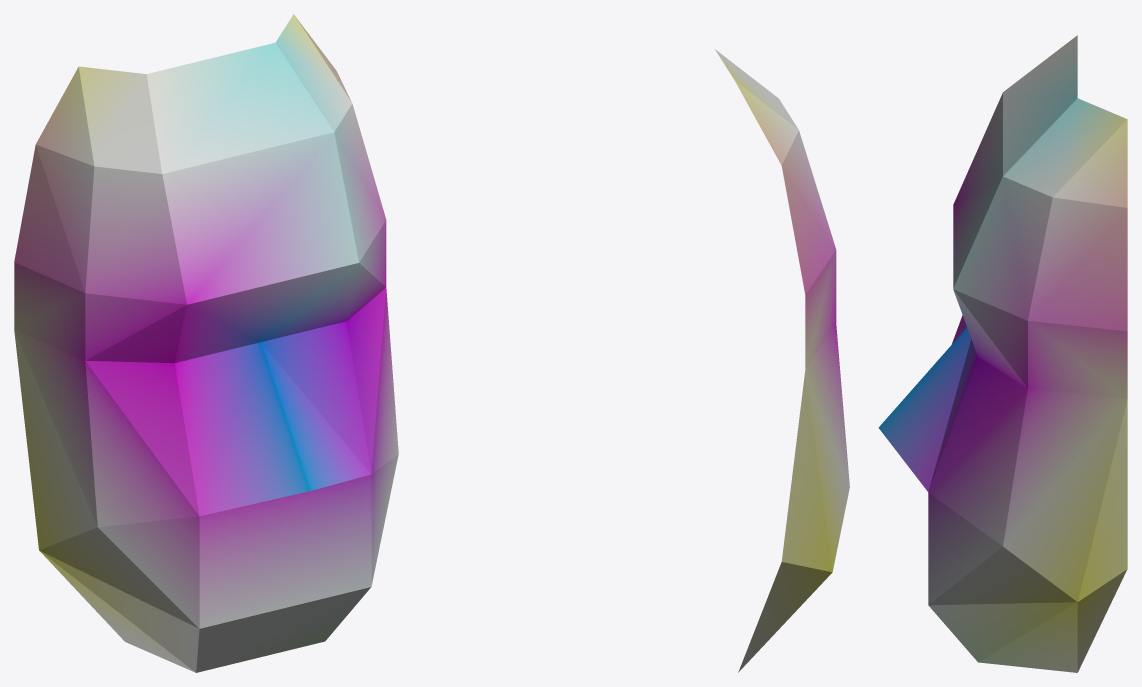
The picture shows the model from 3 angles, left to right: view 1: azimuth 30°, elevation 25°; view 2: azimuth 150°, elevation 25°; view 3: azimuth 270°, elevation 25°; orthographic projection. The views are drawn at different scales.
Visible parts, largest first — view 1: model_1400; view 2: model_1400; view 3: model_1400.
Part boxes in pixels (bbox=[...]): model_1400: bbox=[14, 14, 398, 672]; model_1400: bbox=[715, 49, 849, 672]; model_1400: bbox=[878, 35, 1127, 672].
Size of the model in its own units: 16 by 25 by 10.
